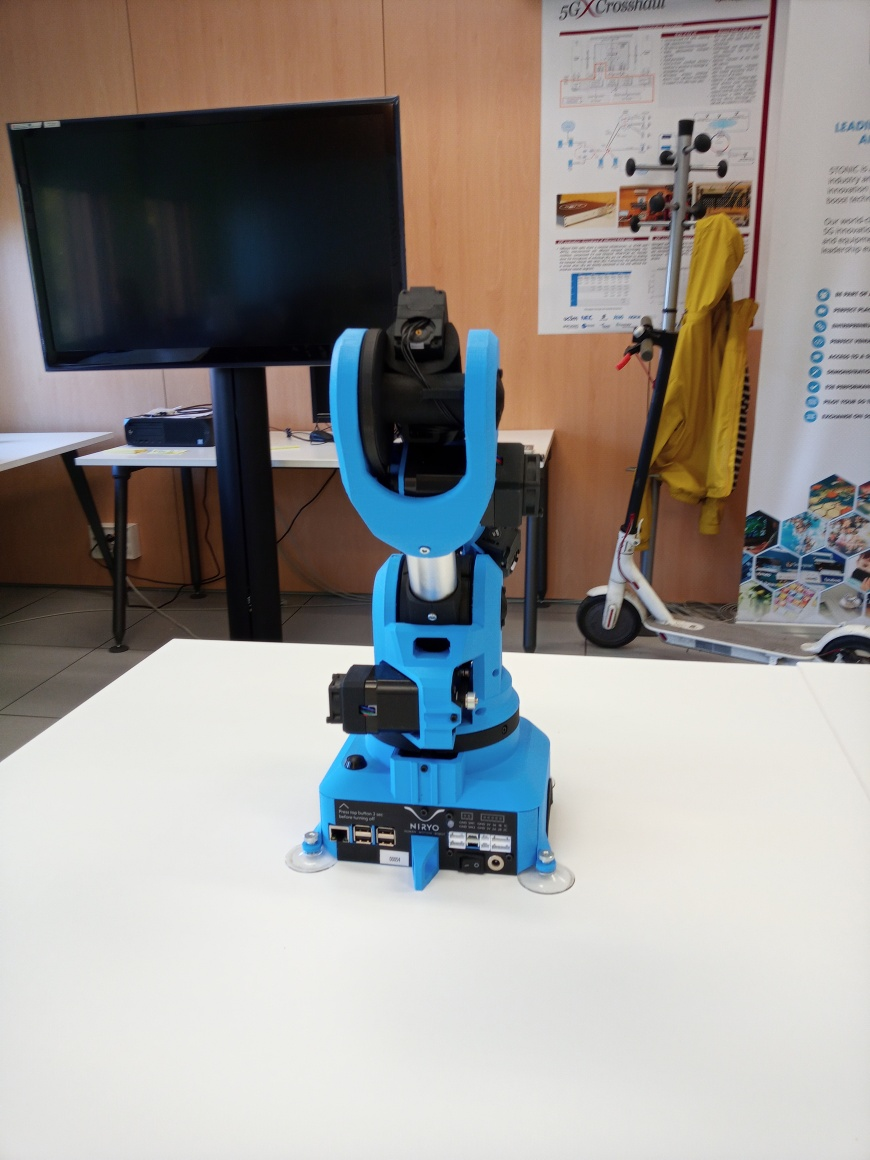robot: (281, 287, 581, 896)
